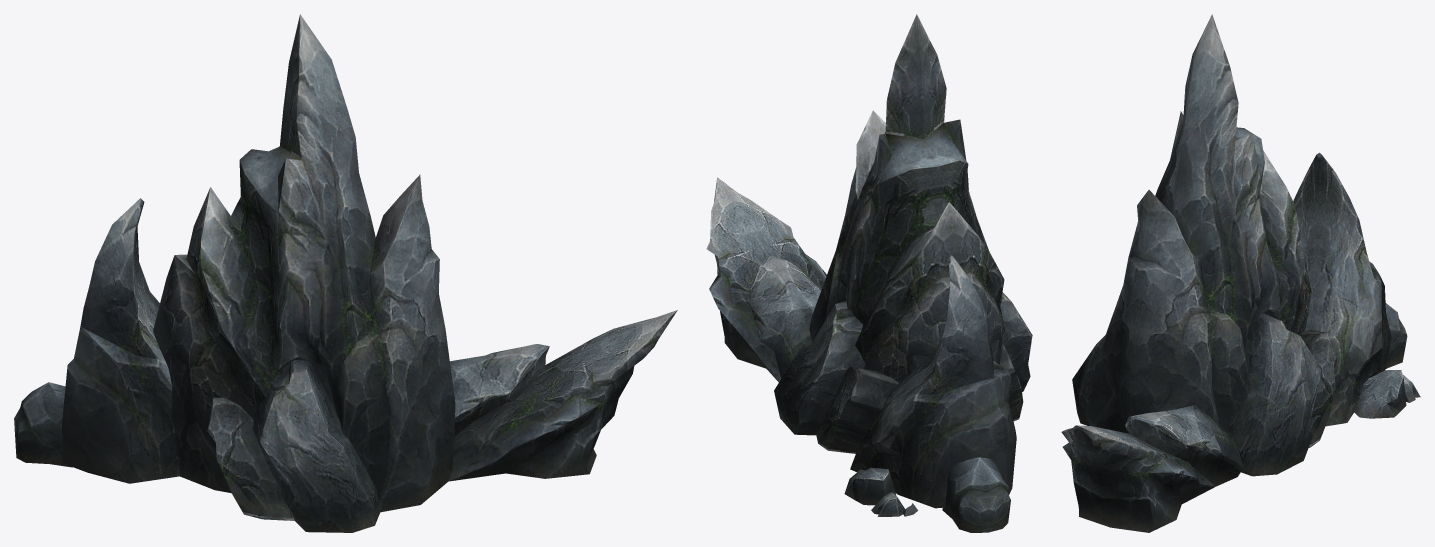
File: dx_shitou_14.FBX
3 renders of one model, left to right at view 1: azimuth 30°, elevation 25°; view 2: azimuth 150°, elevation 25°; view 3: azimuth 270°, elevation 25°, orthographic. The views are drawn at different scales.
Visible parts, largest first — view 1: dx_shitou_14; view 2: dx_shitou_14; view 3: dx_shitou_14.
Boxes of the visible parts, x1,y1,x2,y2 form: dx_shitou_14: [14, 14, 677, 532]; dx_shitou_14: [706, 14, 1032, 532]; dx_shitou_14: [1061, 14, 1420, 532].
Bounding box in the file's own units: 420 × 378 × 296.
